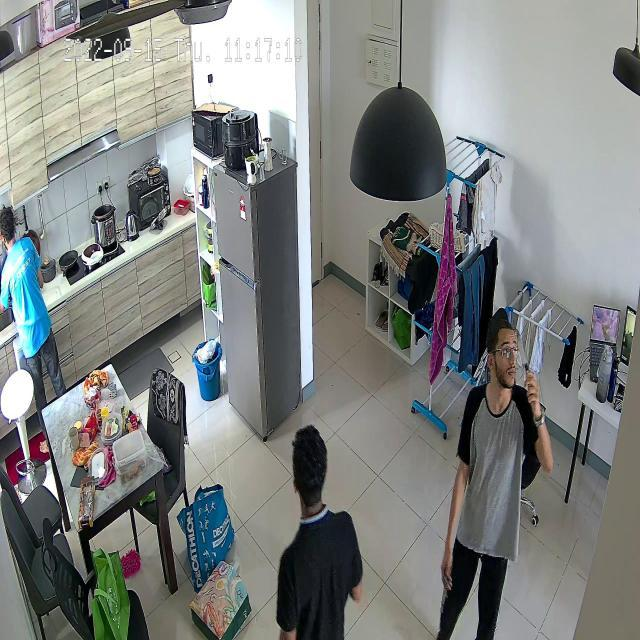Knife: (511, 329, 532, 378)
